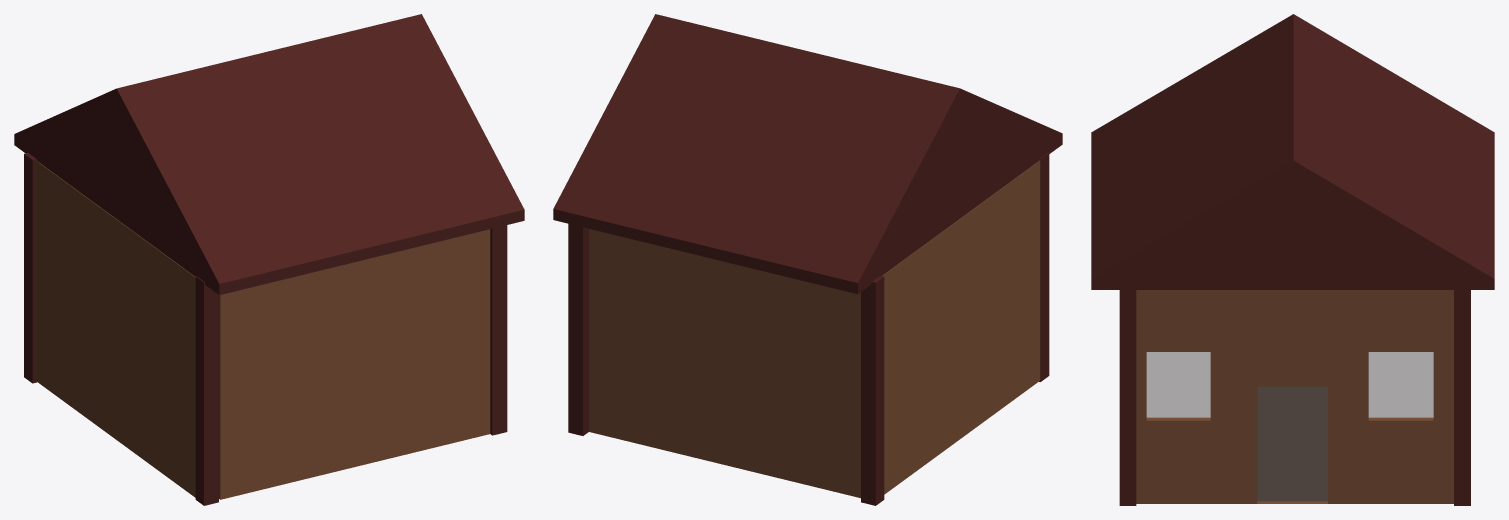
The model's file is house.fbx.
3 renders of one model, left to right at view 1: azimuth 30°, elevation 25°; view 2: azimuth 150°, elevation 25°; view 3: azimuth 270°, elevation 25°, orthographic.
Visible parts, largest first — view 1: Cube.007, Cube.001, Cube.008, Cube.003, Cube.002, Cube.004; view 2: Cube.007, Cube.006, Cube.008, Cube.004, Cube.005, Cube.003; view 3: Cube.007, Cube.009, Cube.002, Cube.005.
Boxes of the visible parts, box(x1,y1,x2,y2) form: Cube.007: box(14, 14, 524, 295); Cube.001: box(219, 229, 490, 499); Cube.008: box(36, 160, 195, 497); Cube.003: box(195, 276, 218, 505); Cube.002: box(490, 225, 507, 435); Cube.004: box(24, 153, 36, 383); Cube.007: box(553, 14, 1062, 294); Cube.006: box(589, 229, 860, 498); Cube.008: box(882, 160, 1040, 494); Cube.004: box(861, 275, 884, 505); Cube.005: box(568, 223, 588, 435); Cube.003: box(1039, 152, 1049, 381); Cube.007: box(1091, 14, 1494, 289); Cube.009: box(1136, 290, 1453, 503); Cube.002: box(1119, 290, 1136, 505); Cube.005: box(1454, 290, 1470, 505).
Bounding box in the file's own units: 2038 × 2220 × 2340.
